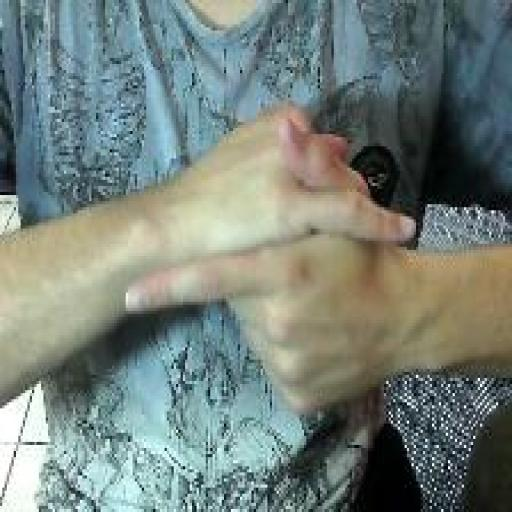U -hare-: (118, 94, 422, 424)
